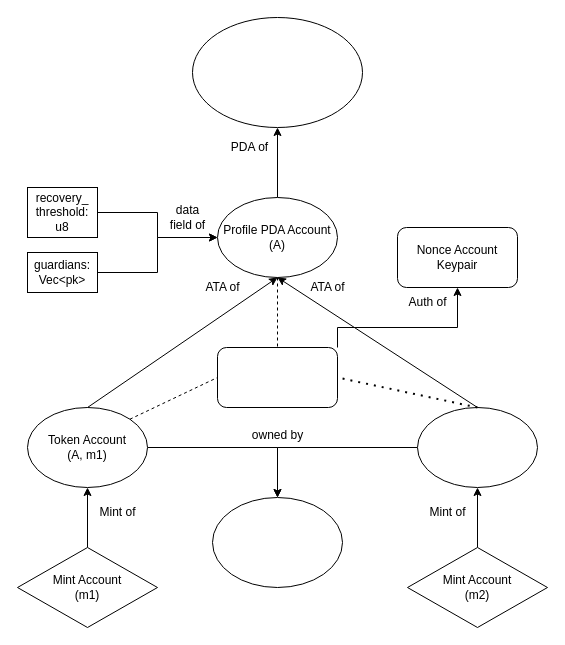
Some shapes in this 565 by 645 pixel diagram are drawn without their labels. The box of each missing label's shape, as (x1, y1, x2, y2) in pixels:
feePayer A Keypair: (216, 346, 338, 408)
Token Account (A, m2): (416, 406, 538, 488)
Token Program: (212, 496, 342, 588)
Wallet Program: (192, 16, 362, 128)
